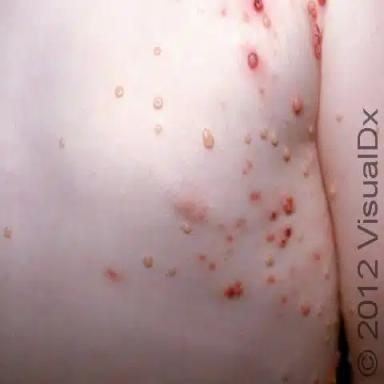Molluscum-Contagiosum: (292, 94, 304, 115), (203, 128, 215, 149), (247, 52, 259, 69), (181, 222, 192, 234), (143, 256, 154, 268), (307, 125, 315, 141), (283, 147, 291, 163), (114, 86, 124, 98), (259, 128, 269, 140), (243, 132, 252, 145), (329, 183, 336, 199), (263, 14, 271, 28), (166, 267, 177, 277), (154, 97, 163, 109), (271, 132, 278, 147), (4, 226, 12, 239), (313, 369, 319, 384), (265, 256, 274, 266), (59, 136, 65, 149), (303, 165, 309, 178), (155, 124, 162, 134), (336, 114, 343, 123), (154, 47, 161, 56), (324, 273, 330, 280)
